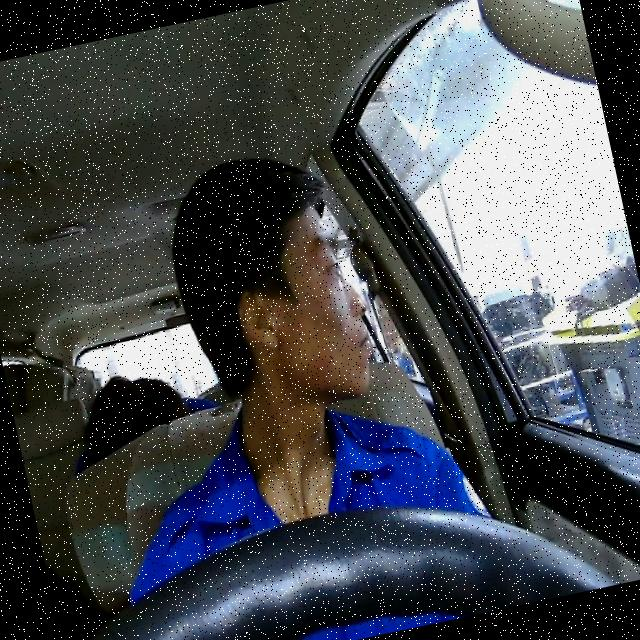seeing_right: (214, 193, 386, 416)
